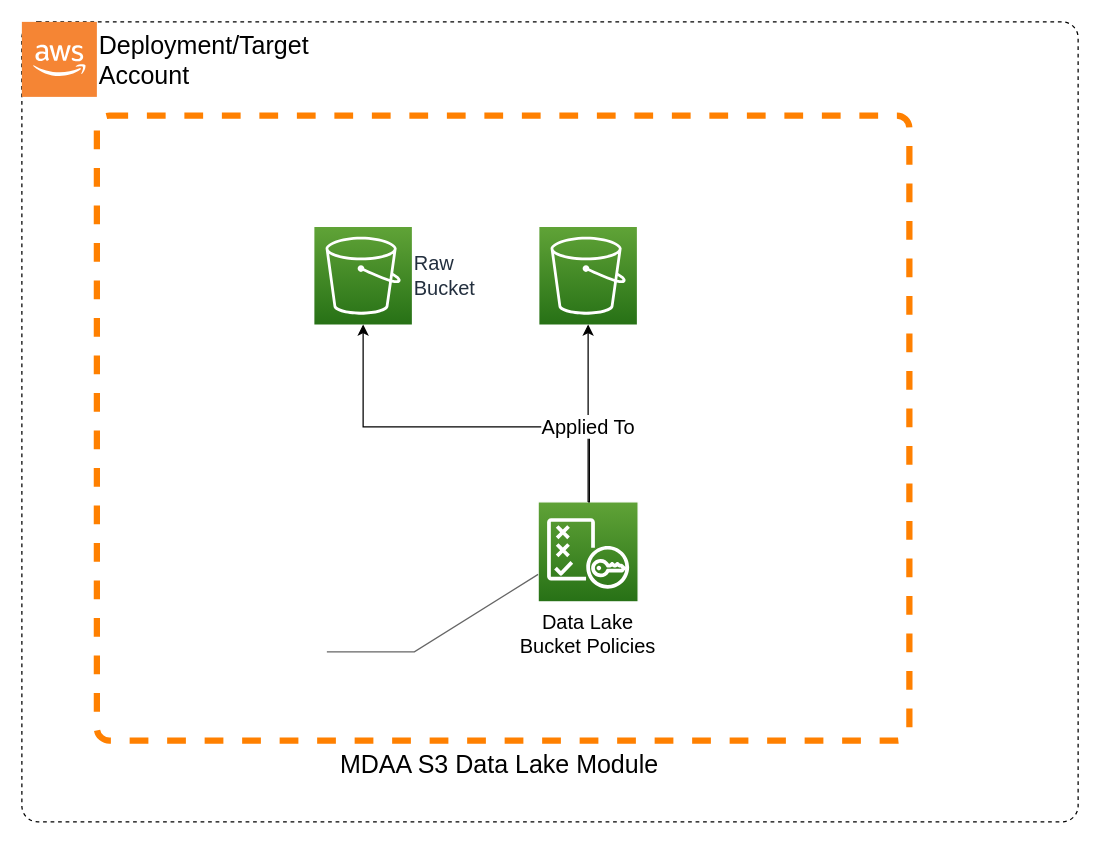
The diagram is 1100 pixels wide and 844 high, and some of its shapes have lost their labels. Each missing label, with the centre of its shape:
"Grants access to data for all roles." goes at pixel 432 612.
"Transformed Bucket" goes at pixel 587 275.
